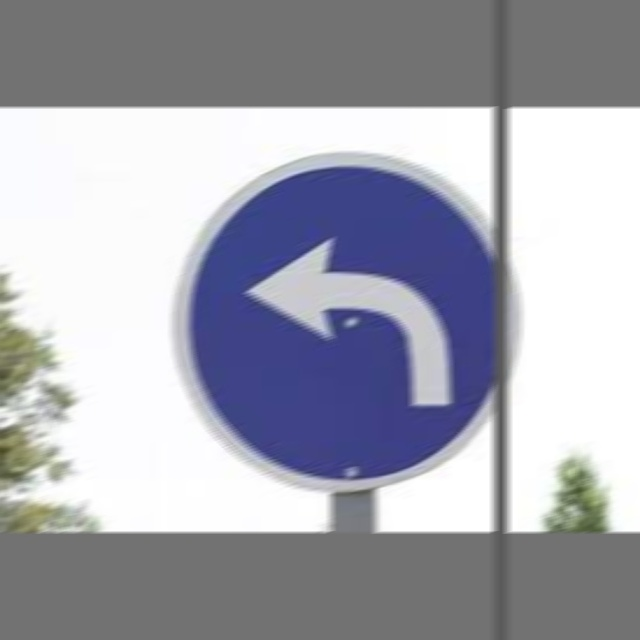Compulsory_Turn_Left_Ahead: (180, 149, 516, 489)
